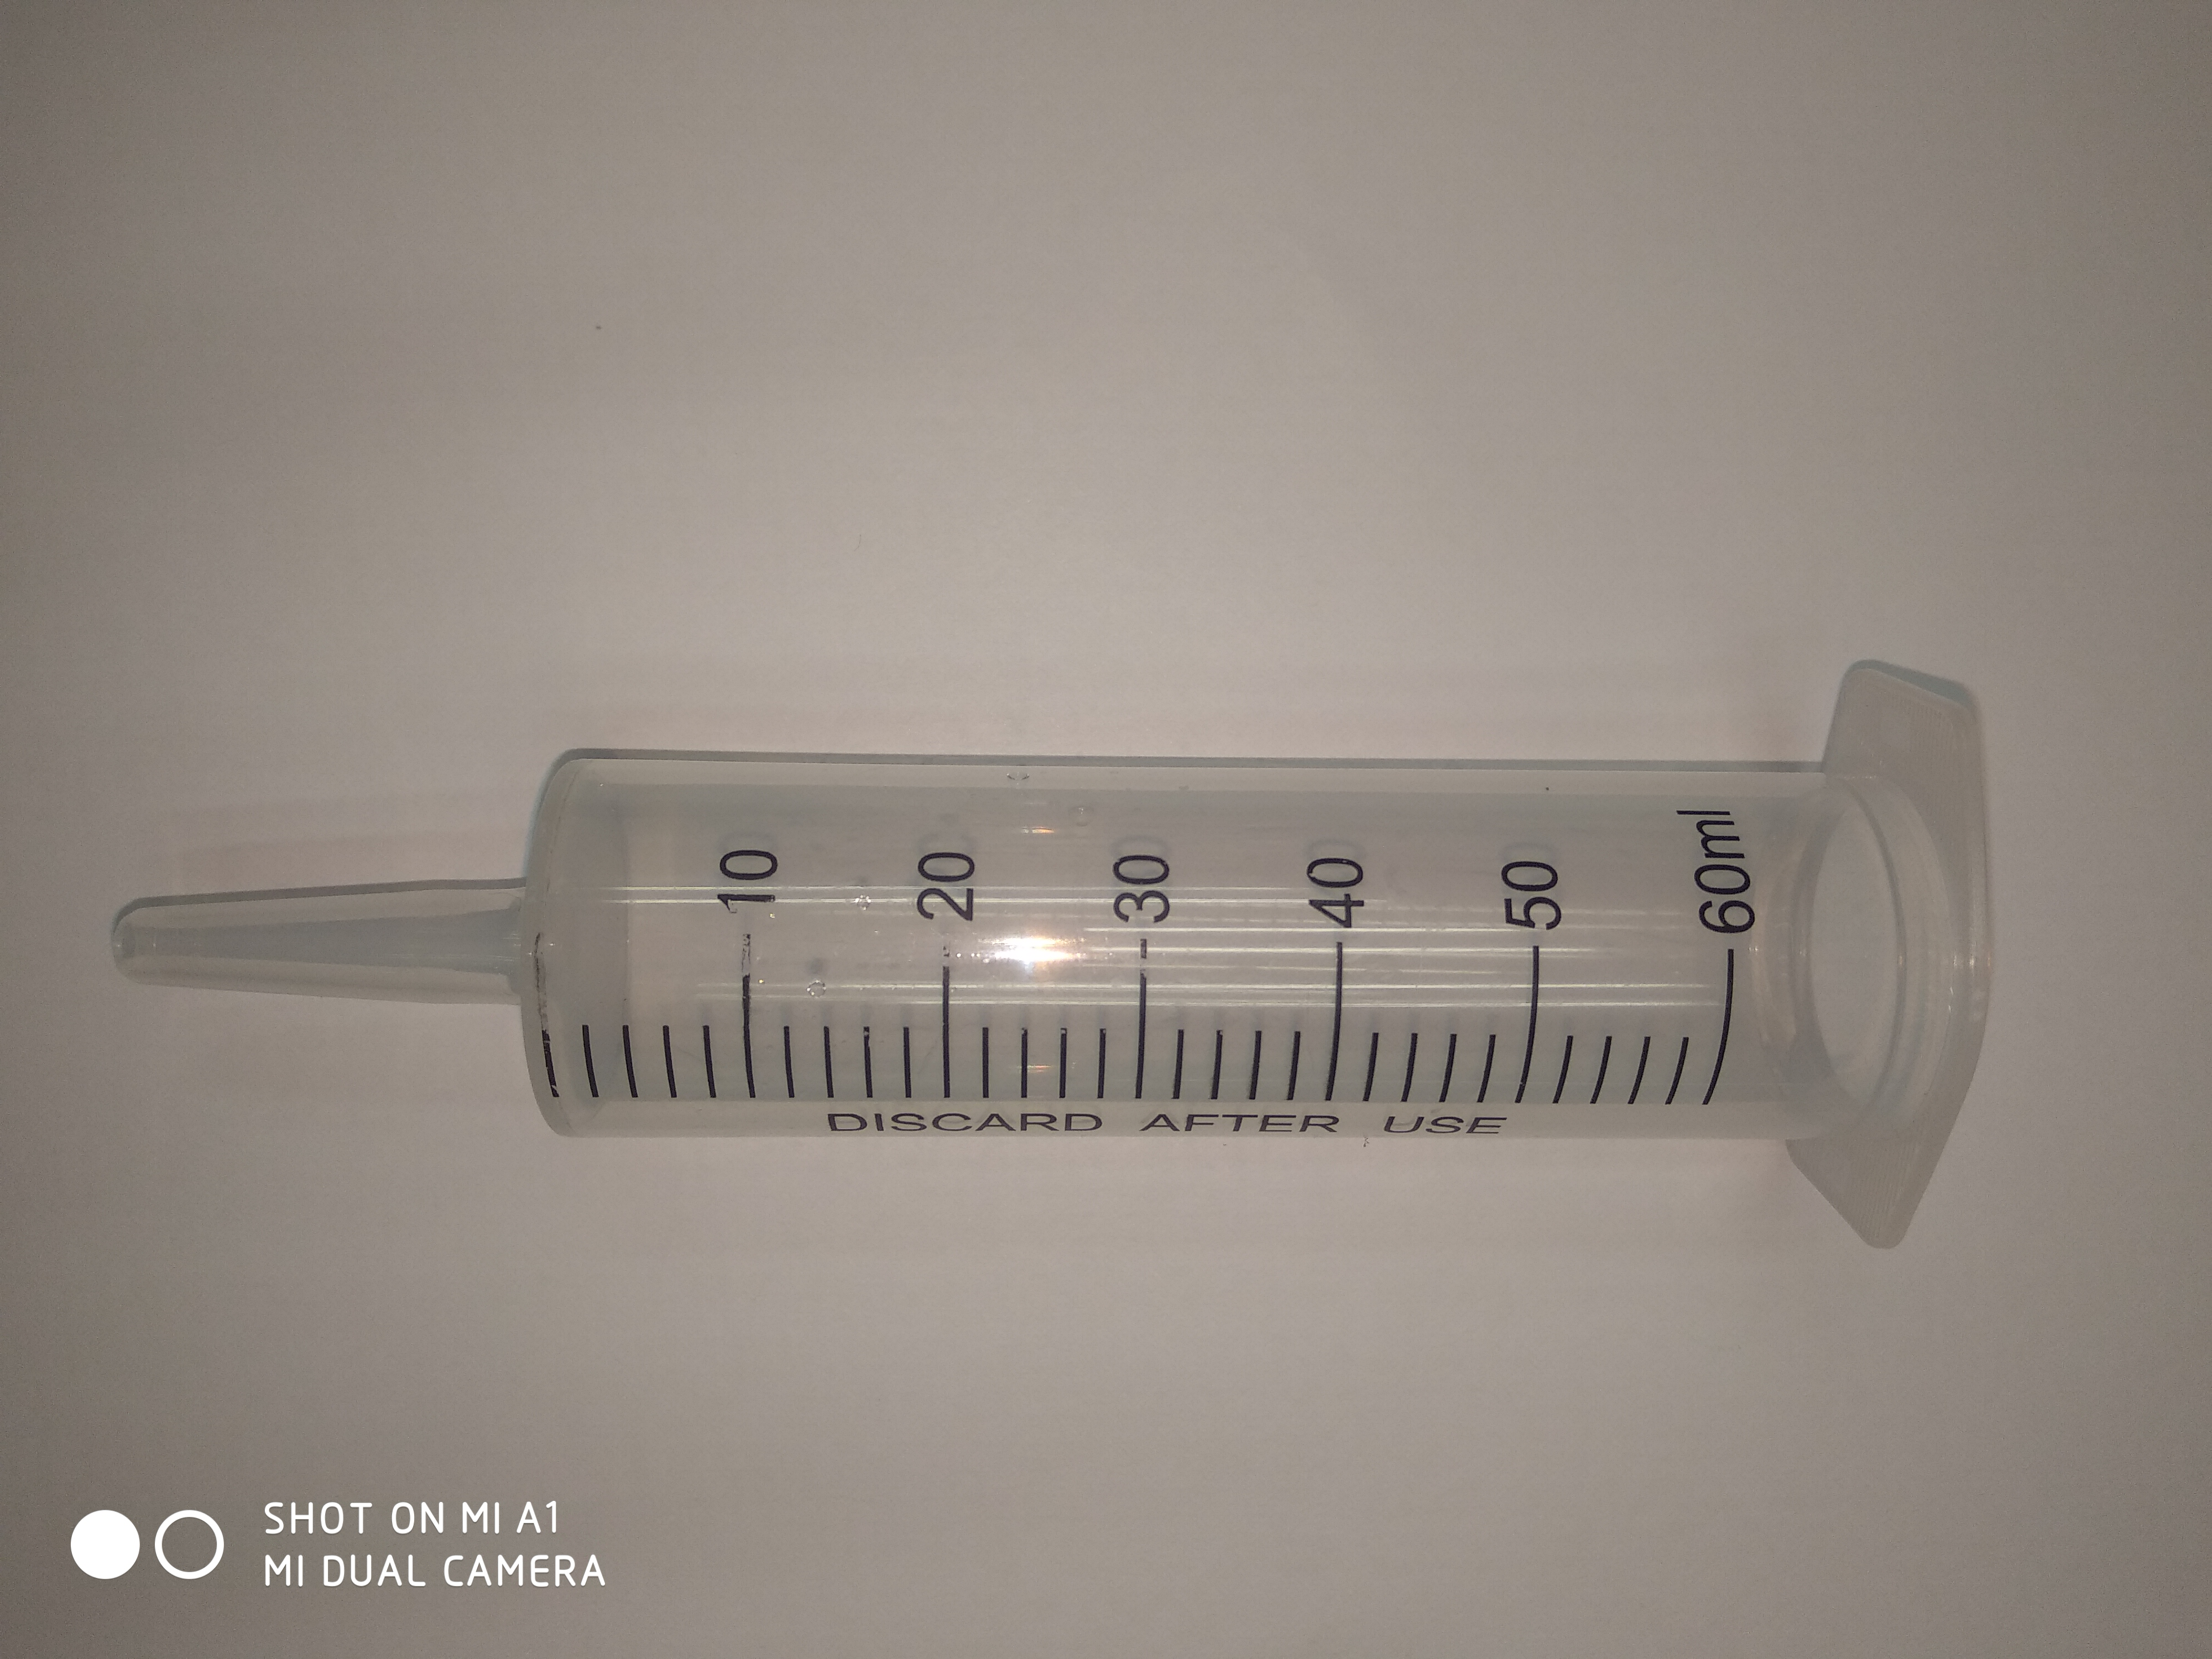syringe: (101, 657, 2013, 1251)
